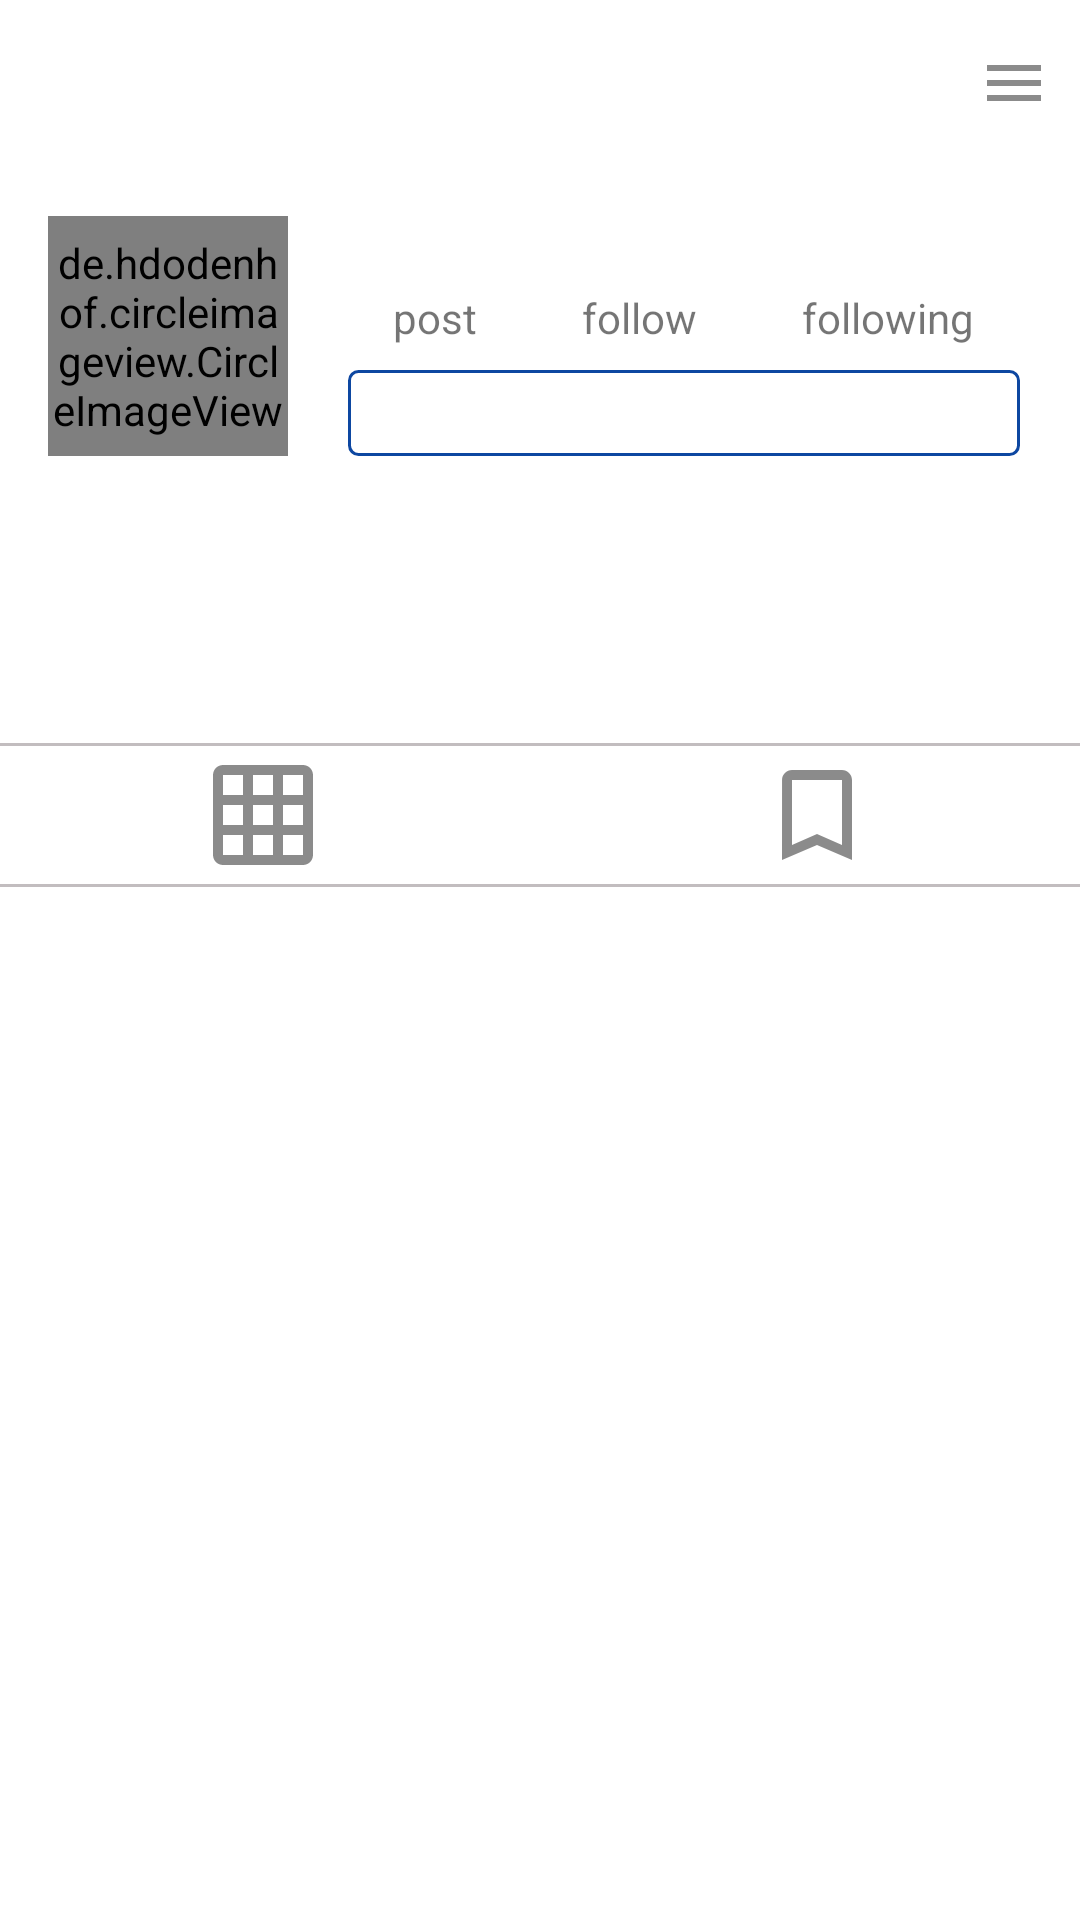

Icons on this 1080*1920 Android screen, each with the point to tap as point (x, y):
grid: point (263, 815)
options: point (1014, 83)
